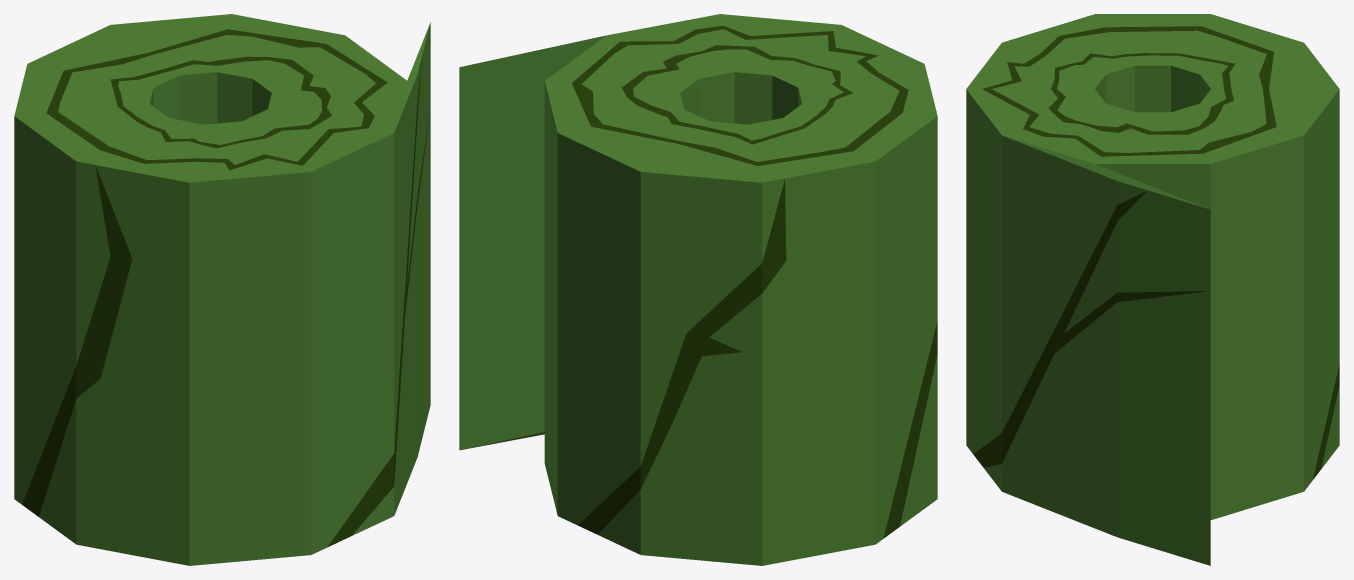
File: venda hojas.fbx
3 renders of one model, left to right at view 1: azimuth 30°, elevation 25°; view 2: azimuth 150°, elevation 25°; view 3: azimuth 270°, elevation 25°, orthographic. The views are drawn at different scales.
Parts seen in each view (by area): view 1: Cylinder.009; view 2: Cylinder.009; view 3: Cylinder.009.
Boxes of the visible parts, <box> form: Cylinder.009: <box>14,14,430,565</box>; Cylinder.009: <box>459,14,937,565</box>; Cylinder.009: <box>966,14,1339,565</box>.
Size of the model in its own units: 227 by 204 by 190.
